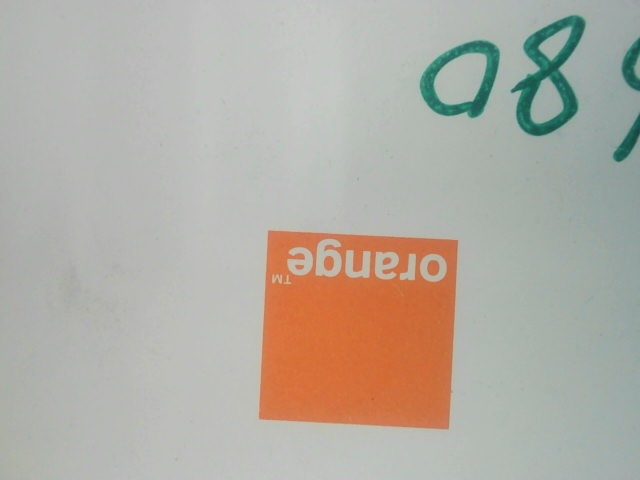AR_Orange: (229, 226, 476, 436)
